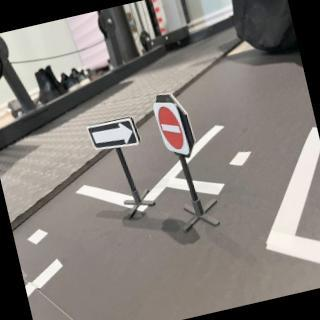sign_noentry: (152, 97, 193, 166)
sign_oneway_right: (87, 113, 145, 156)
